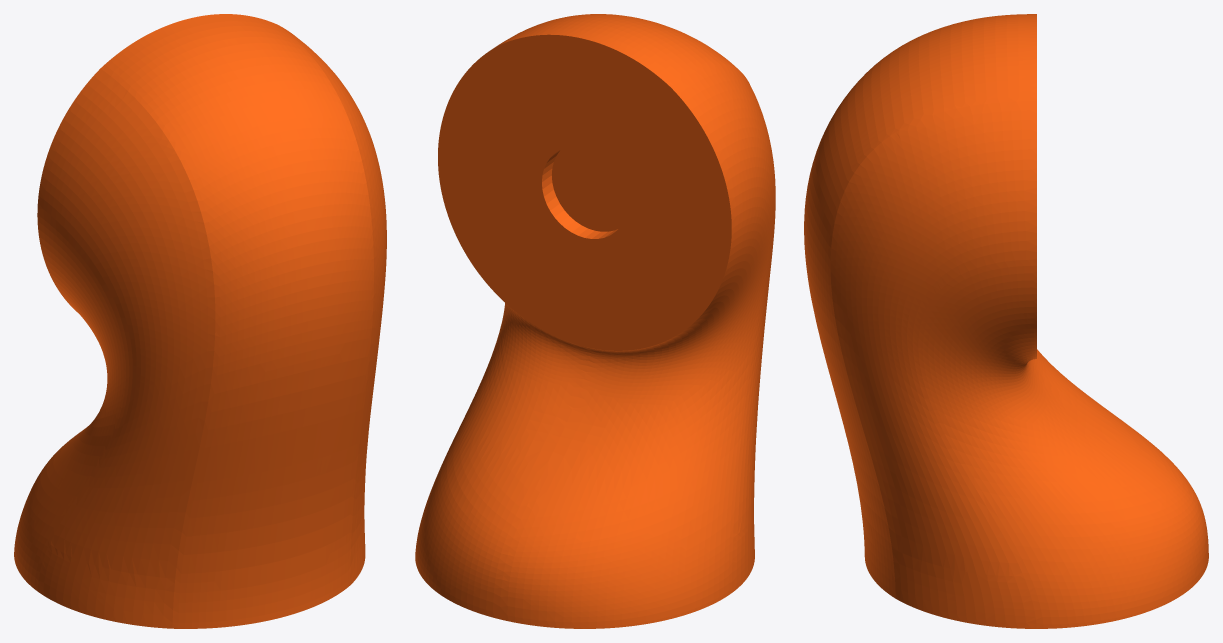
File: iiwa_link_1.dae
3 renders of one model, left to right at view 1: azimuth 30°, elevation 25°; view 2: azimuth 150°, elevation 25°; view 3: azimuth 270°, elevation 25°, orthographic. The views are drawn at different scales.
Visible parts, largest first — view 1: Iiwa Link 1; view 2: Iiwa Link 1; view 3: Iiwa Link 1.
Boxes of the visible parts, x1,y1,x2,y2 form: Iiwa Link 1: [14, 14, 386, 628]; Iiwa Link 1: [415, 14, 775, 628]; Iiwa Link 1: [804, 14, 1208, 628].
Size of the model in its own units: 0.171 by 0.2012 by 0.298.
